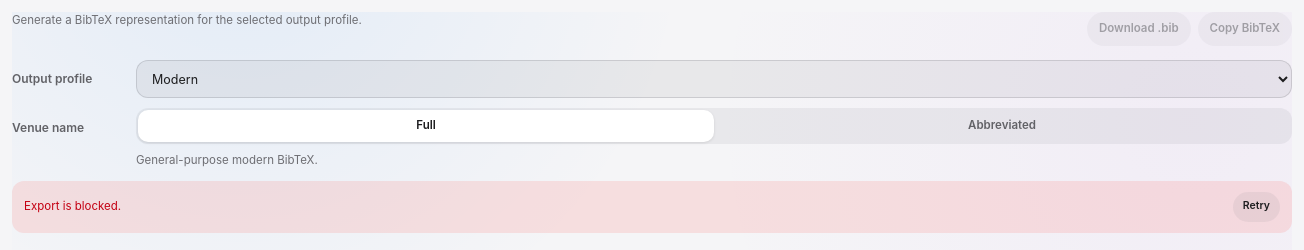
BibtexExportPanel › shows export errors and lets the user retry
Check: the message "Export is blocked. Retry" is shown, box [12,181,1292,233]
Click the button "Retry".
click(1256, 207)  # box [1233,192,1280,222]
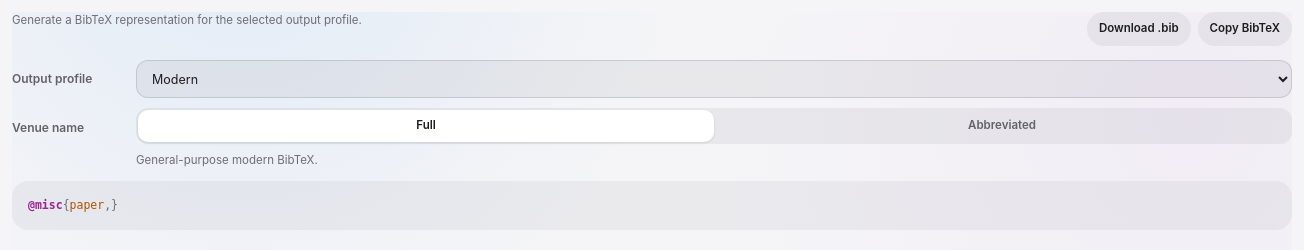
Check: the element with test id "bibtex-export-preview" reads "@misc{paper,}", box [12,181,1292,230]
